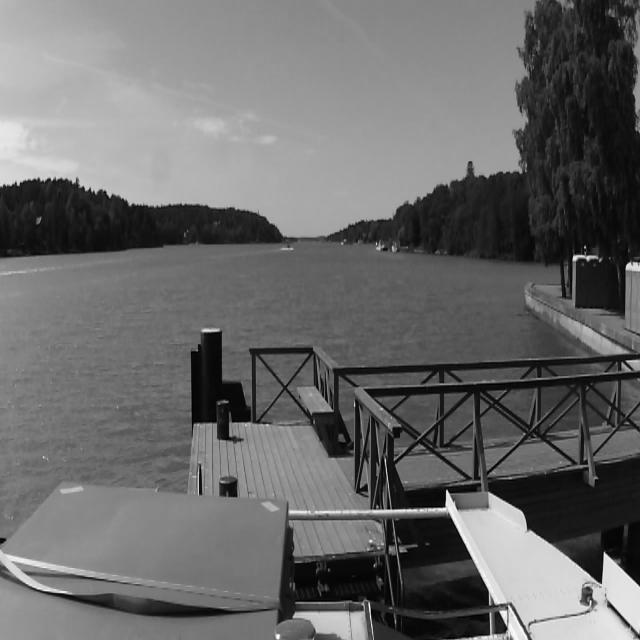ship: (287, 245, 290, 248)
